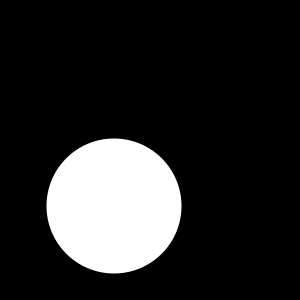rectangle: (46, 138, 182, 274)
